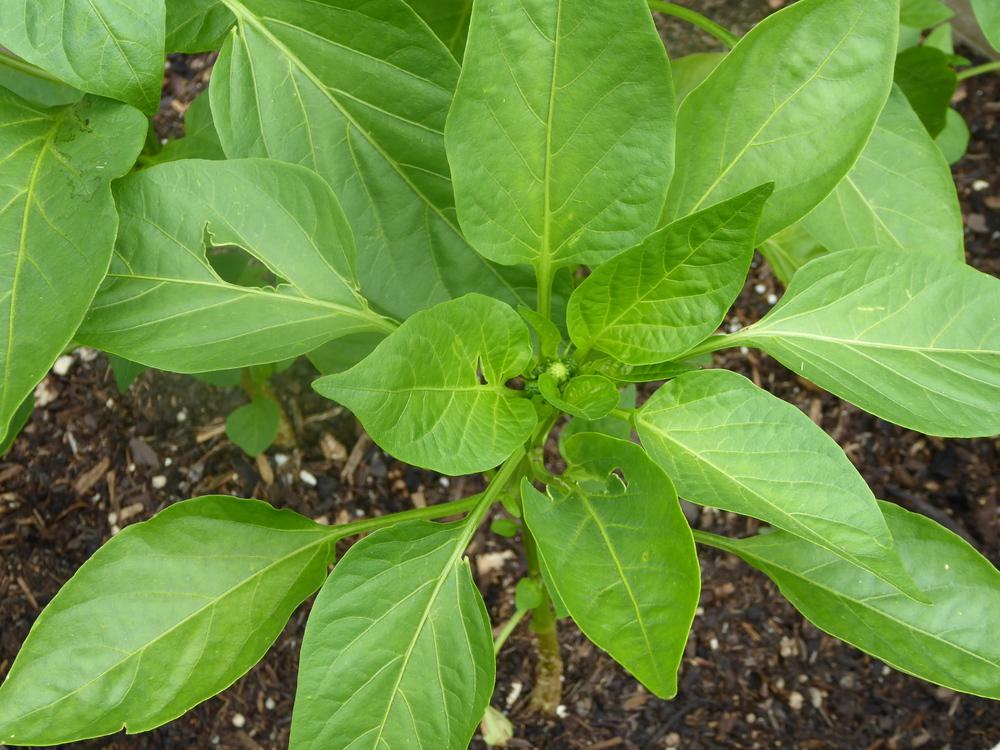leaf: (2, 492, 288, 730), (432, 2, 679, 265), (75, 169, 388, 364), (511, 476, 725, 697), (632, 377, 907, 546), (562, 191, 788, 382), (303, 293, 541, 470), (307, 534, 491, 748)
